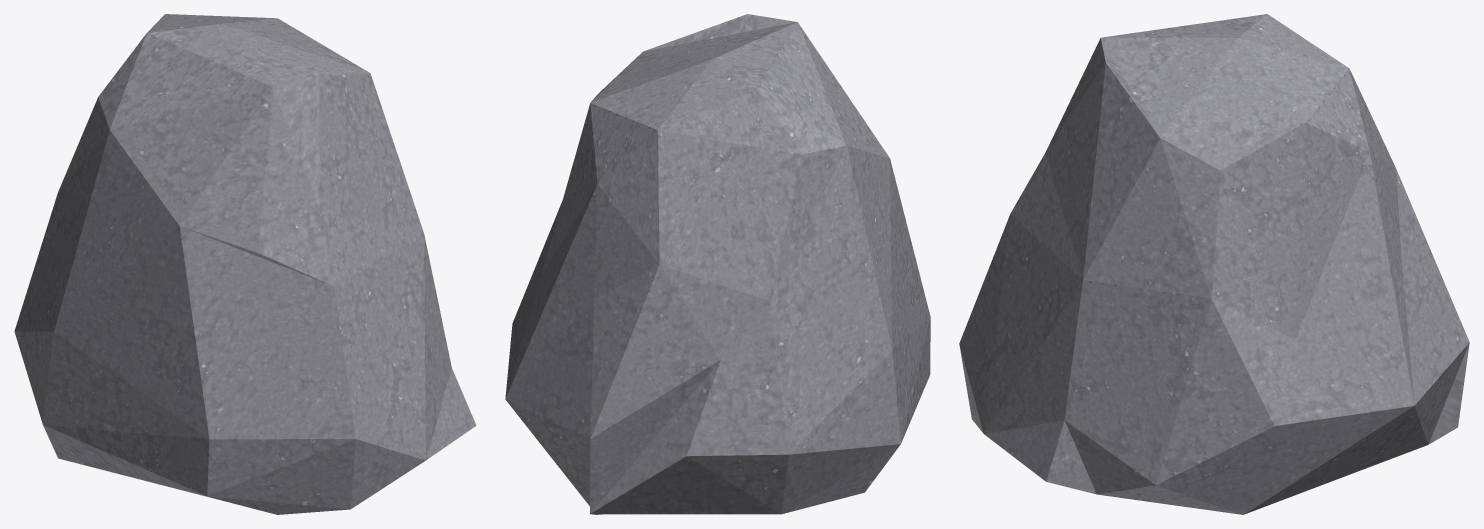
The model's file is 003_Stone_5.fbx.
3 renders of one model, left to right at view 1: azimuth 30°, elevation 25°; view 2: azimuth 150°, elevation 25°; view 3: azimuth 270°, elevation 25°, orthographic.
Visible parts, largest first — view 1: T_Stone_5; view 2: T_Stone_5; view 3: T_Stone_5.
Part boxes in pixels (x1,y1,x2,y2): T_Stone_5: (14, 14, 476, 514); T_Stone_5: (505, 14, 930, 514); T_Stone_5: (959, 14, 1469, 514).
Size of the model in its own units: 164 by 168 by 196.
